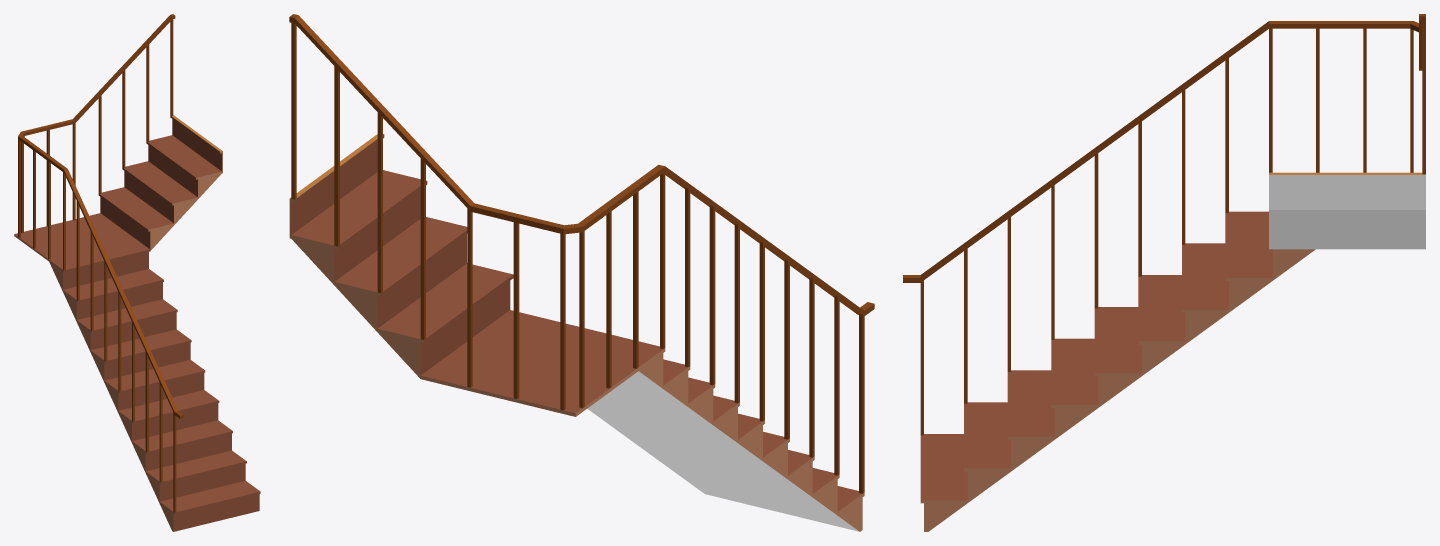
Rendered from quarterLandingStaircase.obj.
3 views of the same model, side by side, from view 1: azimuth 30°, elevation 25°; view 2: azimuth 150°, elevation 25°; view 3: azimuth 270°, elevation 25° (orthographic). The views are drawn at different scales.
Parts seen in each view (by area): view 1: 44_44, 28_28; view 2: 44_44, 28_28, 39_39; view 3: 44_44, 28_28, 39_39.
Boxes of the visible parts, x1,y1,x2,y2 form: 44_44: (14, 115, 260, 531); 28_28: (18, 14, 183, 512); 44_44: (289, 134, 864, 531); 28_28: (289, 14, 874, 493); 39_39: (587, 371, 859, 531); 44_44: (920, 172, 1425, 531); 28_28: (903, 14, 1425, 435); 39_39: (1269, 175, 1425, 249).
Size of the model in its own units: 166 by 362 by 300.
